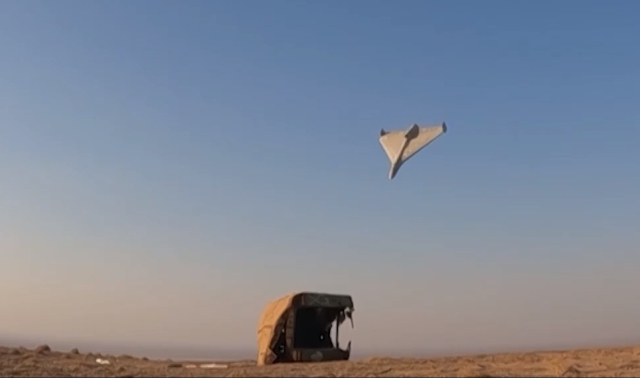shahed: (378, 122, 448, 180)
